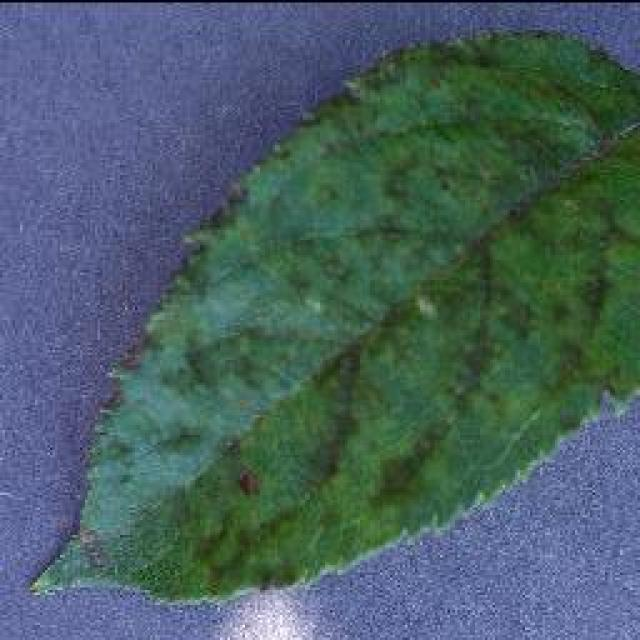apple scab disease: (28, 25, 638, 607)
